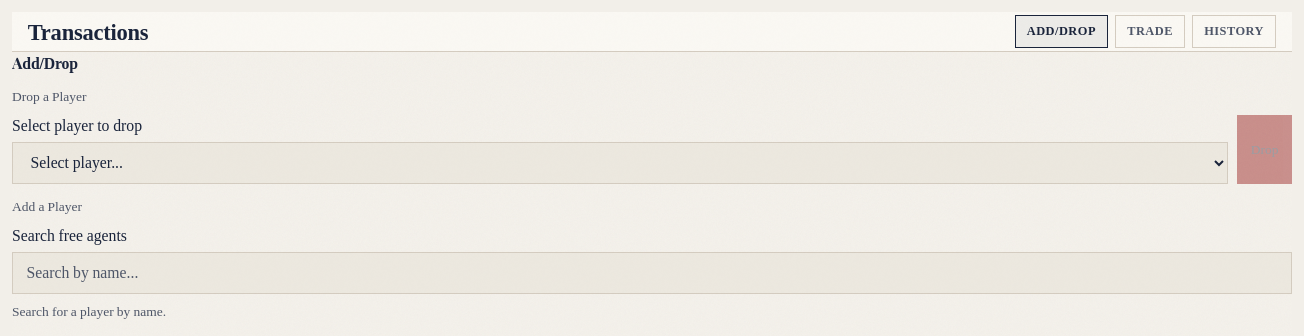
it: TransactionsPage › switches tabs on click
Click the button "History": [1234, 32] box [1192, 16, 1276, 48]
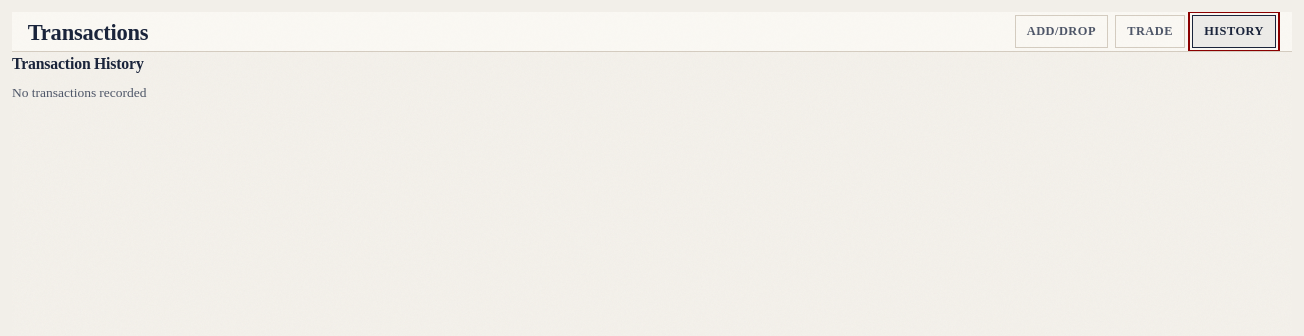
Result: the heading "Transaction History" is shown at [12, 52, 144, 73]
